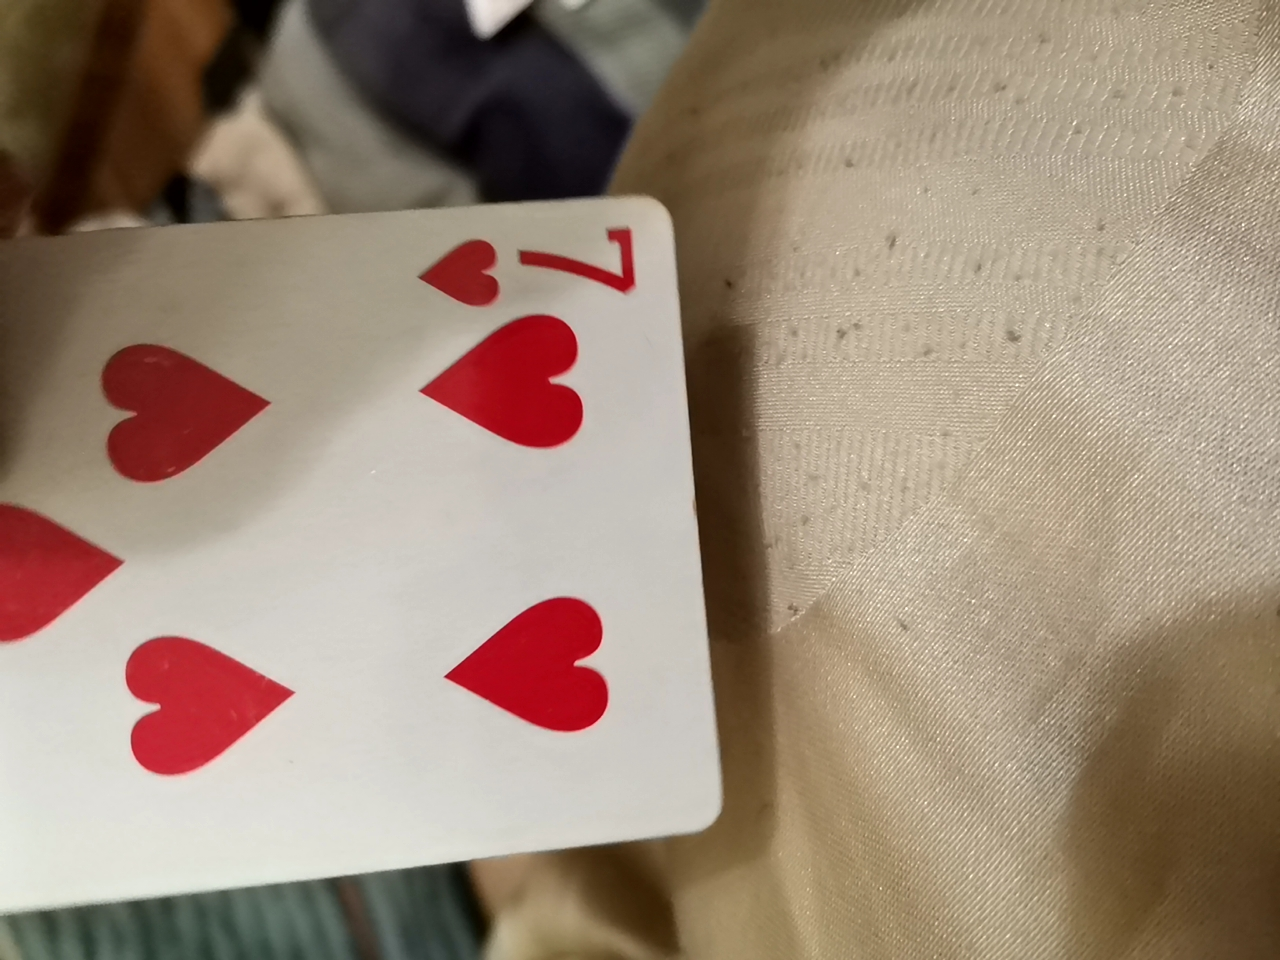hx 7: (2, 168, 721, 941)
